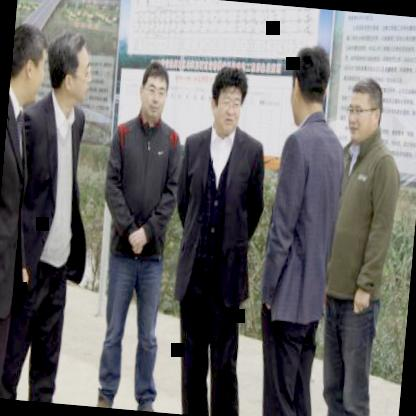head: (284, 37, 336, 130), (38, 30, 94, 112), (8, 18, 55, 110), (204, 62, 252, 138), (342, 72, 390, 148), (134, 56, 174, 127)
